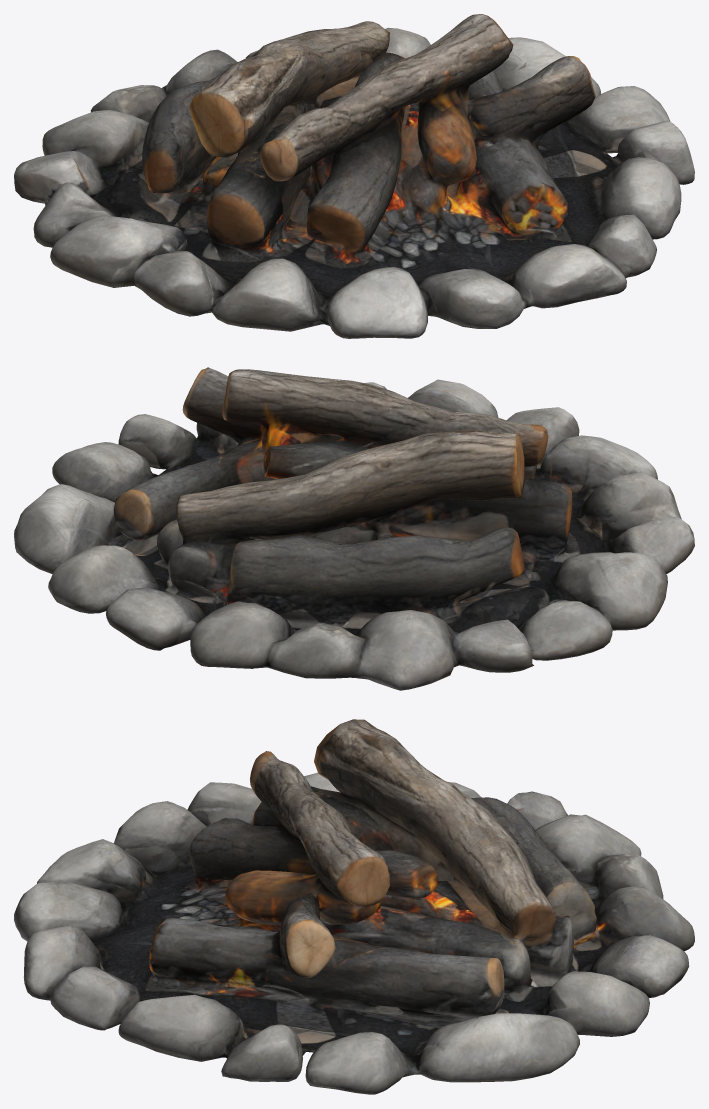
Rendered from Meshy_AI_the_ground_and_floor__0221052302_texture.glb.
The picture shows the model from 3 angles, top to bottom: view 1: azimuth 30°, elevation 25°; view 2: azimuth 150°, elevation 25°; view 3: azimuth 270°, elevation 25°; orthographic projection. The views are drawn at different scales.
Size of the model in its own units: 1.98 by 0.5039 by 1.88.
Materials: 1 (1 with a texture image).
